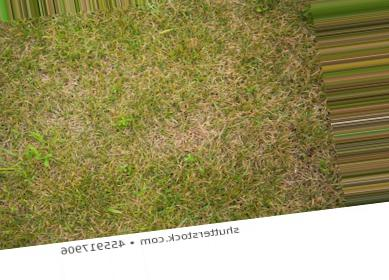patch: (62, 134, 159, 168), (38, 67, 122, 105), (206, 50, 288, 85), (264, 115, 317, 165), (172, 165, 240, 202), (162, 105, 240, 136), (149, 60, 196, 91)
